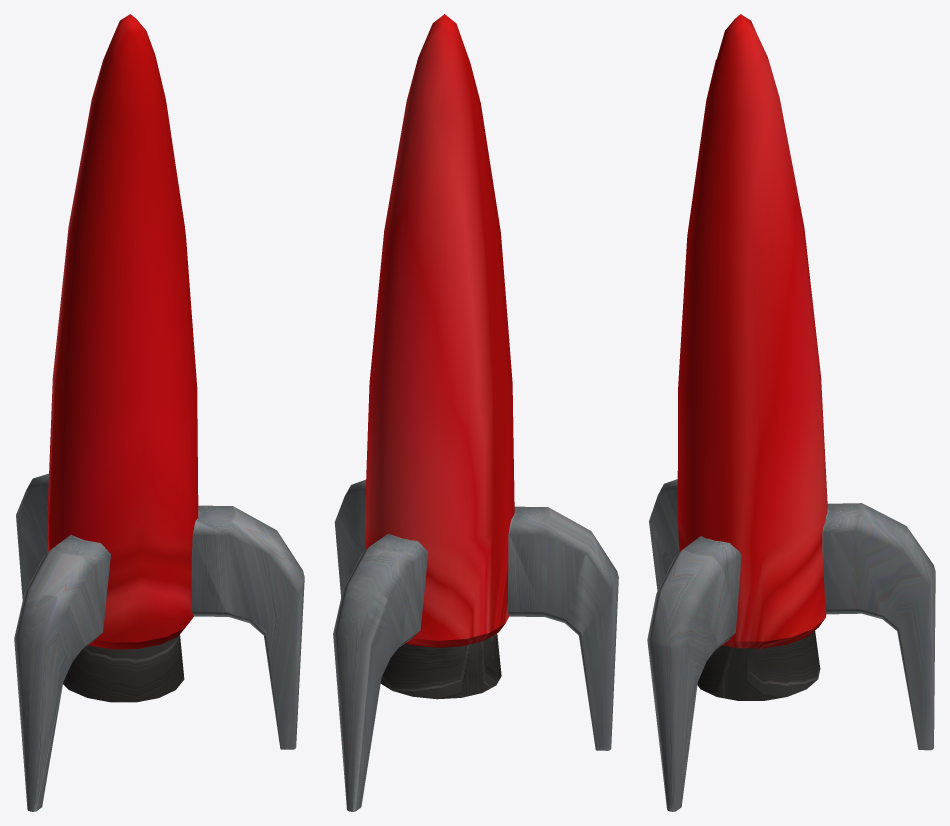
The model's file is pm-colony-rocket.glb.
3 renders of one model, left to right at view 1: azimuth 30°, elevation 25°; view 2: azimuth 150°, elevation 25°; view 3: azimuth 270°, elevation 25°, orthographic.
Parts seen in each view (by area): view 1: Colony_Rocket_Art; view 2: Colony_Rocket_Art; view 3: Colony_Rocket_Art.
Part boxes in pixels (x1,y1,x2,y2): Colony_Rocket_Art: (14,14,304,811); Colony_Rocket_Art: (333,14,618,811); Colony_Rocket_Art: (647,14,935,811).
Size of the model in its own units: 2.05 by 5.13 by 1.83.
1 material, 1 textured.
